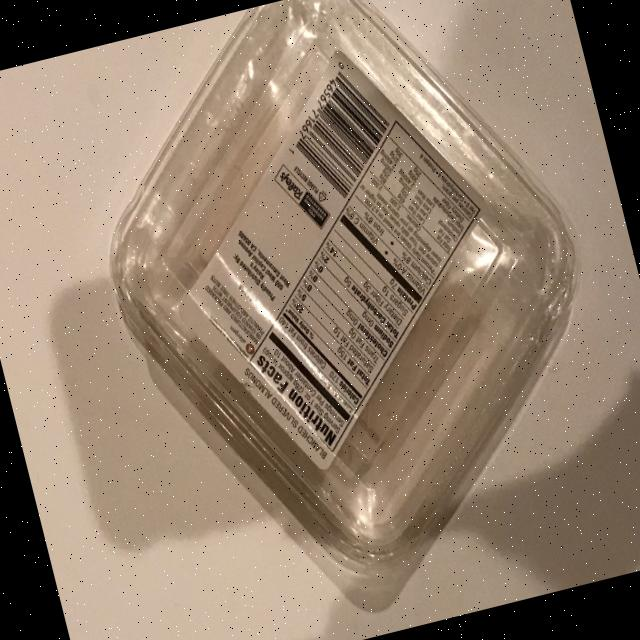plastic: (54, 0, 640, 640)
